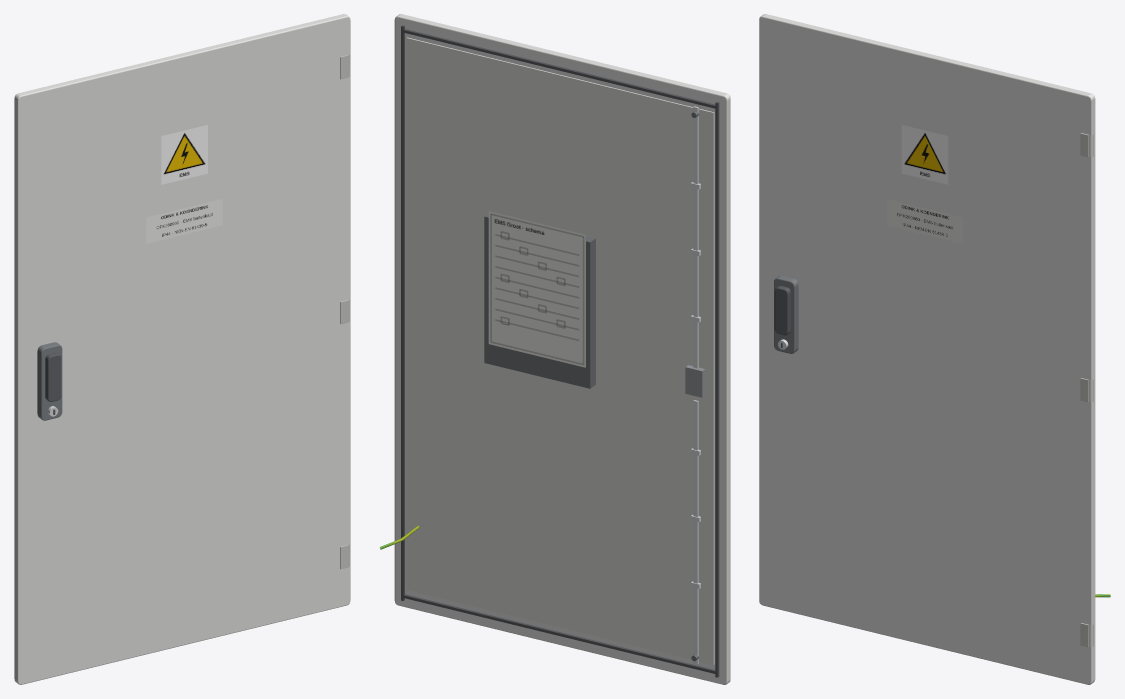
The model's file is emsdeur.glb.
3 renders of one model, left to right at view 1: azimuth 30°, elevation 25°; view 2: azimuth 150°, elevation 25°; view 3: azimuth 330°, elevation 25°, orthographic.
Bounding box in the file's own units: 786 × 1328 × 128.
13 materials, 4 textured.
